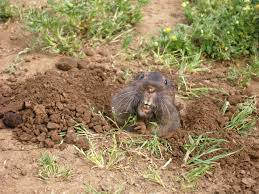gopher: (111, 72, 182, 131)
